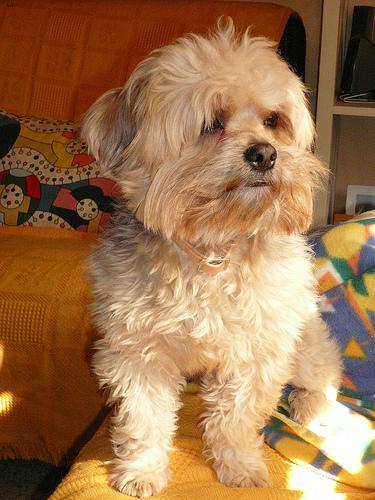dog-havanese: (125, 33, 310, 212)
